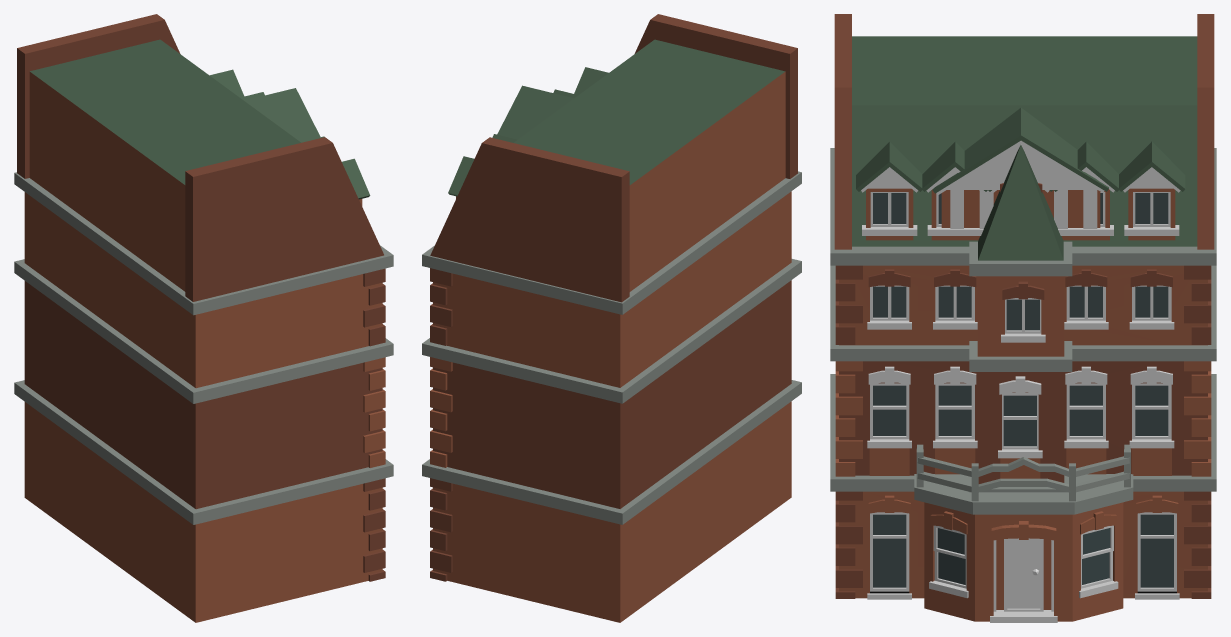
The model's file is House-1-3.glb.
The picture shows the model from 3 angles, left to right: view 1: azimuth 30°, elevation 25°; view 2: azimuth 150°, elevation 25°; view 3: azimuth 270°, elevation 25°; orthographic projection. The views are drawn at different scales.
Parts seen in each view (by area): view 1: Main-1-3, RoofWindowBig-1-3, RoofWindowSides-1-3; view 2: Main-1-3, RoofWindowBig-1-3, RoofWindowSides-1-3; view 3: Main-1-3, DoorExtension-1-3, FrontExtension-1-3, RoofWindowBig-1-3, RoofWindowSides-1-3, RoofWindowMiddle-1-3.
Part boxes in pixels (box(x1,y1,x2,y2)): Main-1-3: box(14, 14, 393, 622); RoofWindowBig-1-3: box(244, 88, 320, 141); RoofWindowSides-1-3: box(210, 69, 370, 206); Main-1-3: box(422, 14, 801, 622); RoofWindowBig-1-3: box(497, 85, 573, 139); RoofWindowSides-1-3: box(448, 67, 608, 198); Main-1-3: box(830, 14, 1216, 599); DoorExtension-1-3: box(914, 444, 1133, 622); FrontExtension-1-3: box(969, 145, 1072, 492); RoofWindowBig-1-3: box(932, 108, 1108, 238); RoofWindowSides-1-3: box(856, 141, 1185, 240); RoofWindowMiddle-1-3: box(922, 141, 1119, 240).
Size of the model in its own units: 8.09 by 14 by 10.14.
2 materials, 2 textured.
